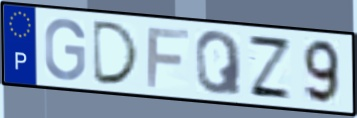9: (300, 38, 342, 106)
D: (91, 18, 143, 87)
F: (144, 26, 192, 90)
G: (42, 16, 87, 82)
Q: (193, 29, 245, 97)
Z: (246, 33, 294, 102)
